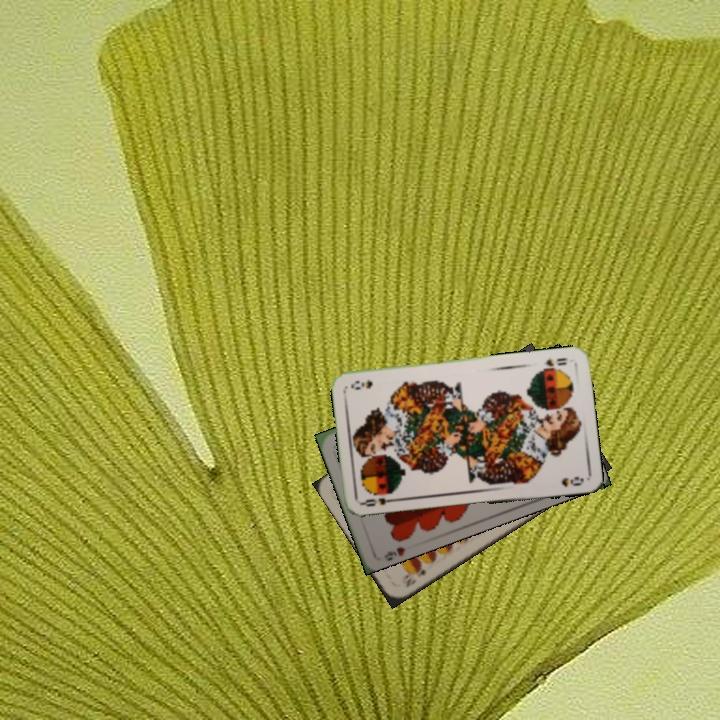E10: (398, 562, 428, 589)
H9: (380, 543, 408, 562)
SO: (358, 494, 399, 509), (539, 354, 569, 372)
